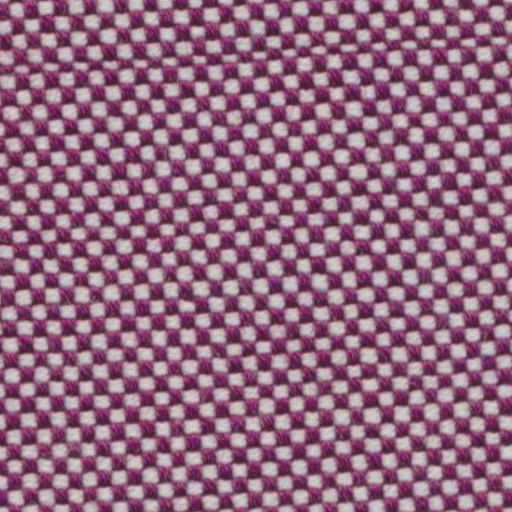TuoSha: (16, 30, 496, 78)
